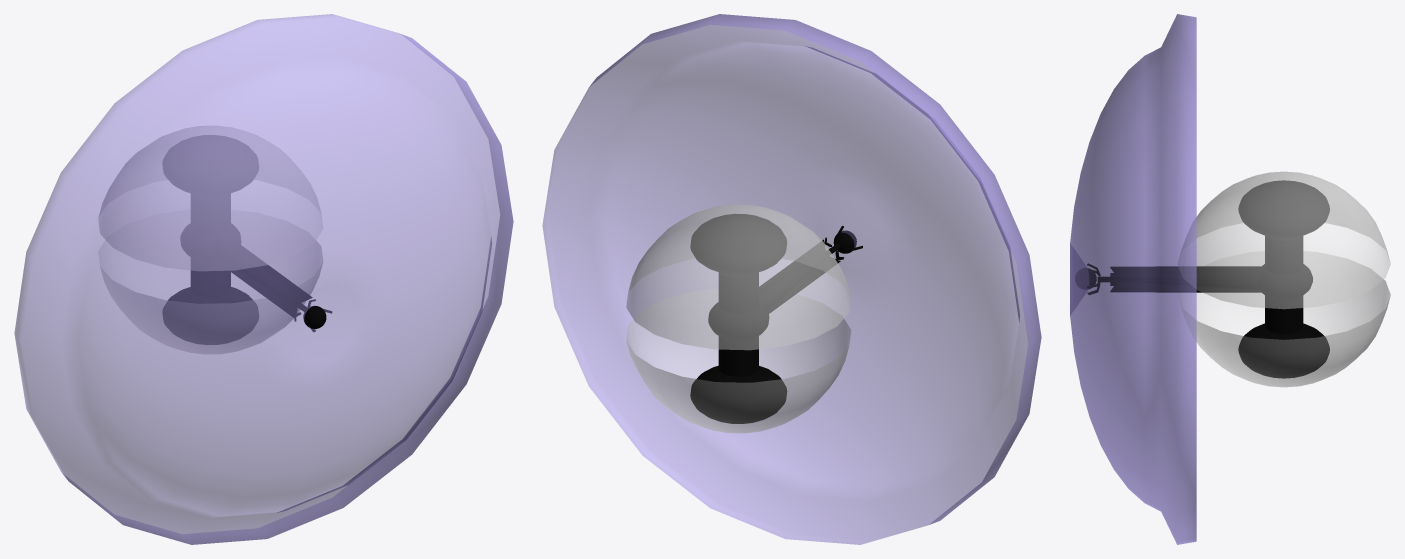
File: SheildShip3.fbx
3 renders of one model, left to right at view 1: azimuth 30°, elevation 25°; view 2: azimuth 150°, elevation 25°; view 3: azimuth 270°, elevation 25°, orthographic. The views are drawn at different scales.
Visible parts, largest first — view 1: Shield1, hull, pSphere3, pSphere4, ShieldArm, pCylinder1, pSphere2; view 2: Shield1, hull, pSphere3, pSphere4, pCylinder1, ShieldArm, pSphere2; view 3: Shield1, hull, pSphere3, ShieldArm, pSphere4, pCylinder1, pSphere2.
Boxes of the visible parts, left/top/right/bottom form: Shield1: left=14, top=14, right=513, bottom=544; hull: left=98, top=126, right=322, bottom=354; pSphere3: left=163, top=135, right=258, bottom=195; pSphere4: left=163, top=287, right=258, bottom=344; ShieldArm: left=213, top=237, right=312, bottom=317; pCylinder1: left=191, top=194, right=230, bottom=297; pSphere2: left=181, top=224, right=240, bottom=261; Shield1: left=542, top=14, right=1041, bottom=544; hull: left=626, top=204, right=851, bottom=433; pSphere3: left=690, top=213, right=787, bottom=274; pSphere4: left=690, top=365, right=787, bottom=423; pCylinder1: left=718, top=272, right=758, bottom=376; ShieldArm: left=759, top=239, right=840, bottom=313; pSphere2: left=708, top=302, right=769, bottom=341; Shield1: left=1070, top=14, right=1196, bottom=544; hull: left=1178, top=171, right=1390, bottom=387; pSphere3: left=1238, top=180, right=1329, bottom=238; ShieldArm: left=1098, top=266, right=1262, bottom=292; pSphere4: left=1238, top=323, right=1329, bottom=378; pCylinder1: left=1265, top=235, right=1303, bottom=333; pSphere2: left=1258, top=264, right=1312, bottom=300.
Size of the model in its own units: 17.27 by 10.36 by 17.27.
